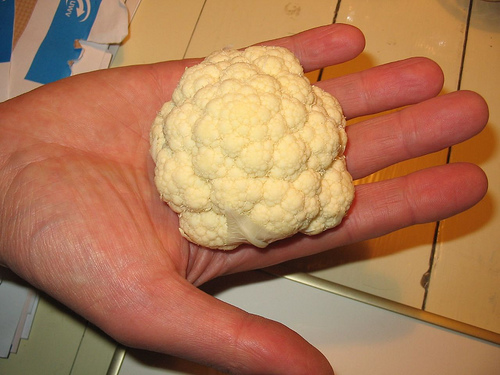cauliflower: (152, 44, 354, 249)
